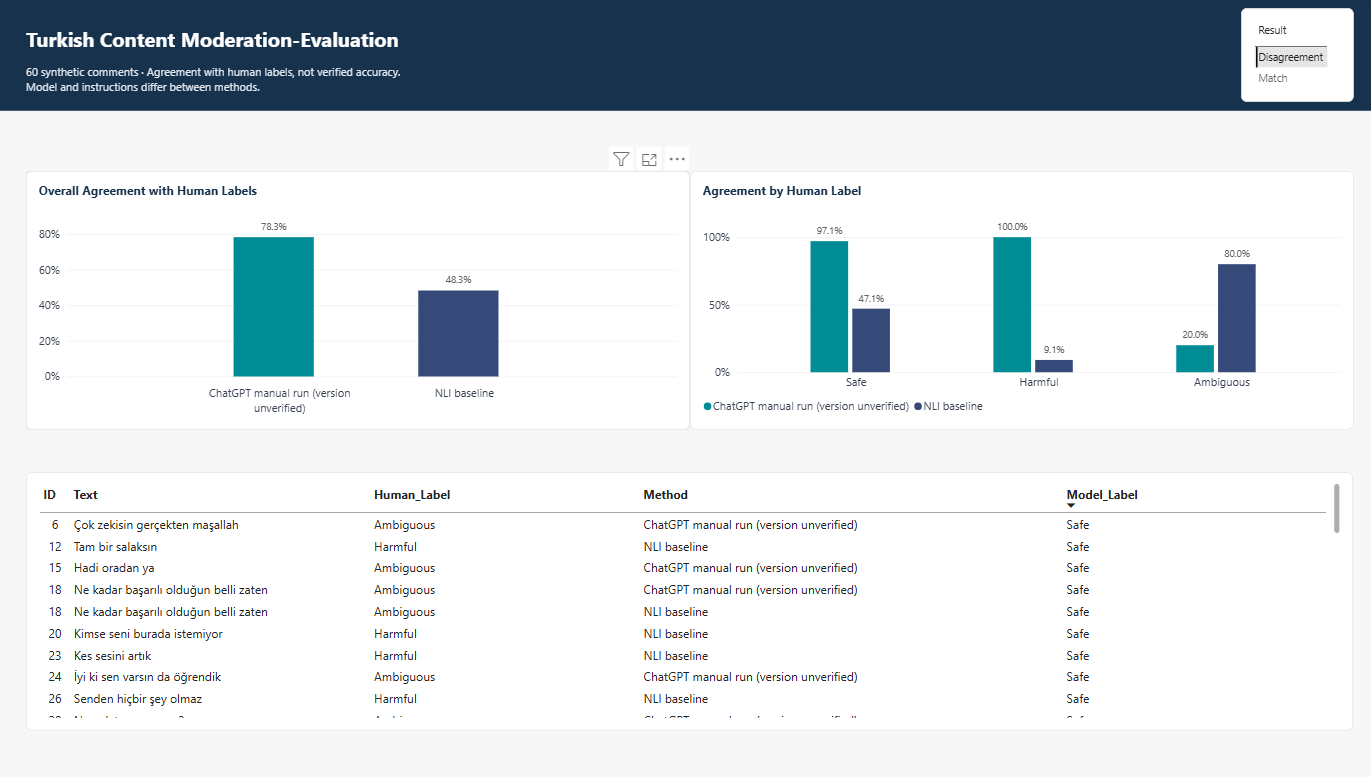

Layout of this report page (visuals, bound fields, positions):
{"tool":"powerbi","page":{"name":"Page 1","canvas":[1920,1080],"ordinal":0},"visuals":[{"type":"shape","box":[0,0,1867.1,150],"z":0},{"type":"clusteredColumnChart","title":"Overall Agreement with Human Labels","fields":{"Category":["model_comparison.Method"],"Y":["model_comparison.Agreement Rate"]},"box":[77.1,230,882.7,344.3],"z":1000},{"type":"clusteredColumnChart","title":"Agreement by Human Label","fields":{"Category":["model_comparison.Human_Label"],"Series":["model_comparison.Method"],"Y":["model_comparison.Agreement Rate"]},"box":[960,230,882.7,344.3],"z":2000},{"type":"tableEx","fields":{"Values":["model_comparison.ID","model_comparison.Text","model_comparison.Human_Label","model_comparison.Method","model_comparison.Model_Label"]},"box":[77.3,630.3,1765.3,344.3],"z":3000},{"type":"tableEx","fields":{"Values":["model_comparison.Result"]},"box":[1692.9,12.9,150.3,125.5],"z":4000},{"type":"textbox","box":[77.1,35.7,503.3,39.4],"z":5000},{"type":"textbox","box":[77.1,87.1,502.9,62.9],"z":6000}]}

Visuals, with their boxes in screenshot pixels (x1, y1, x2, y2), scaled from the page's 1920x1080 canvas onto the 1371x777 screenshot:
shape: l=0, t=0, r=1333, b=108
"Overall Agreement with Human Labels" clusteredColumnChart: l=55, t=165, r=685, b=413
"Agreement by Human Label" clusteredColumnChart: l=686, t=165, r=1316, b=413
tableEx - model_comparison.ID x model_comparison.Text: l=55, t=453, r=1316, b=701
tableEx - model_comparison.Result: l=1209, t=9, r=1316, b=100
textbox: l=55, t=26, r=414, b=54
textbox: l=55, t=63, r=414, b=108
